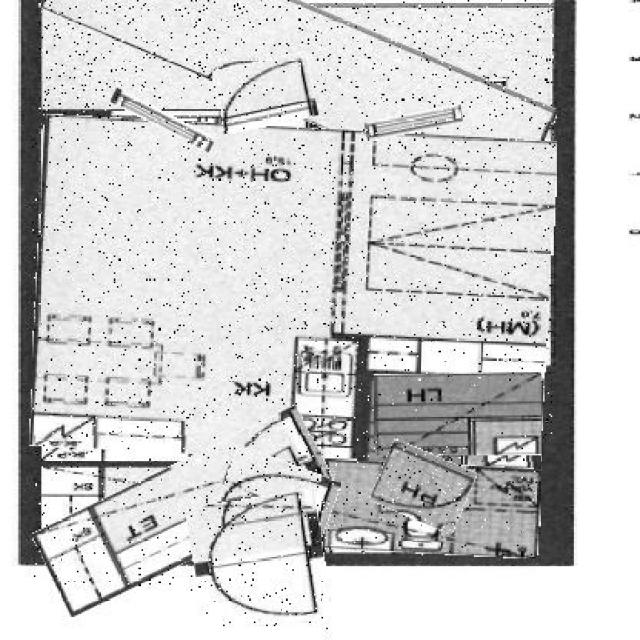door: (190, 492, 328, 630), (221, 456, 337, 532), (374, 446, 472, 528), (215, 57, 317, 131)
window: (108, 100, 217, 140), (368, 109, 463, 137)
zone: (34, 122, 554, 464), (38, 0, 557, 160), (34, 436, 335, 586), (320, 462, 540, 556), (377, 374, 543, 455)
